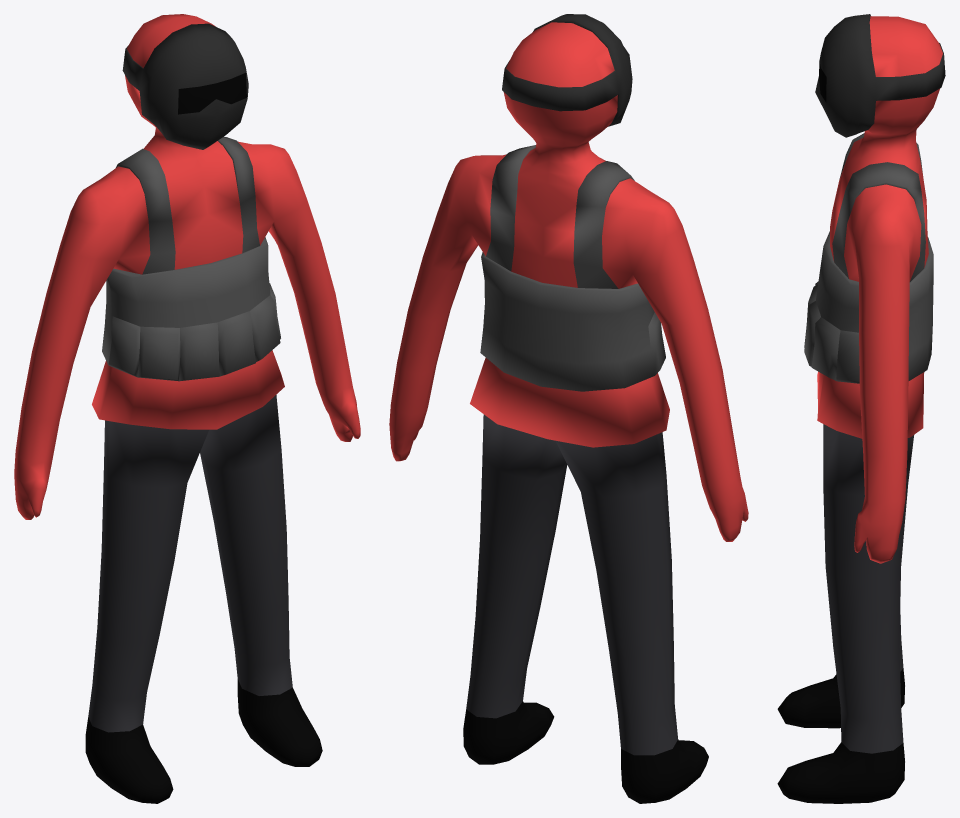
The model's file is Basic goon.fbx.
3 views of the same model, side by side, from view 1: azimuth 30°, elevation 25°; view 2: azimuth 150°, elevation 25°; view 3: azimuth 270°, elevation 25° (orthographic). The views are drawn at different scales.
Parts seen in each view (by area): view 1: Basic Goon; view 2: Basic Goon; view 3: Basic Goon.
Part boxes in pixels (x1,y1,x2,y2): Basic Goon: [14, 14, 360, 803]; Basic Goon: [389, 14, 748, 803]; Basic Goon: [777, 14, 945, 803].
Size of the model in its own units: 393 by 829 by 170.
